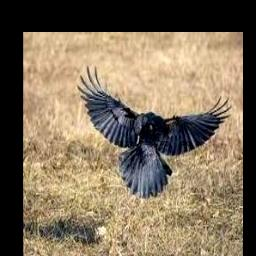Crow: (76, 65, 232, 198)
